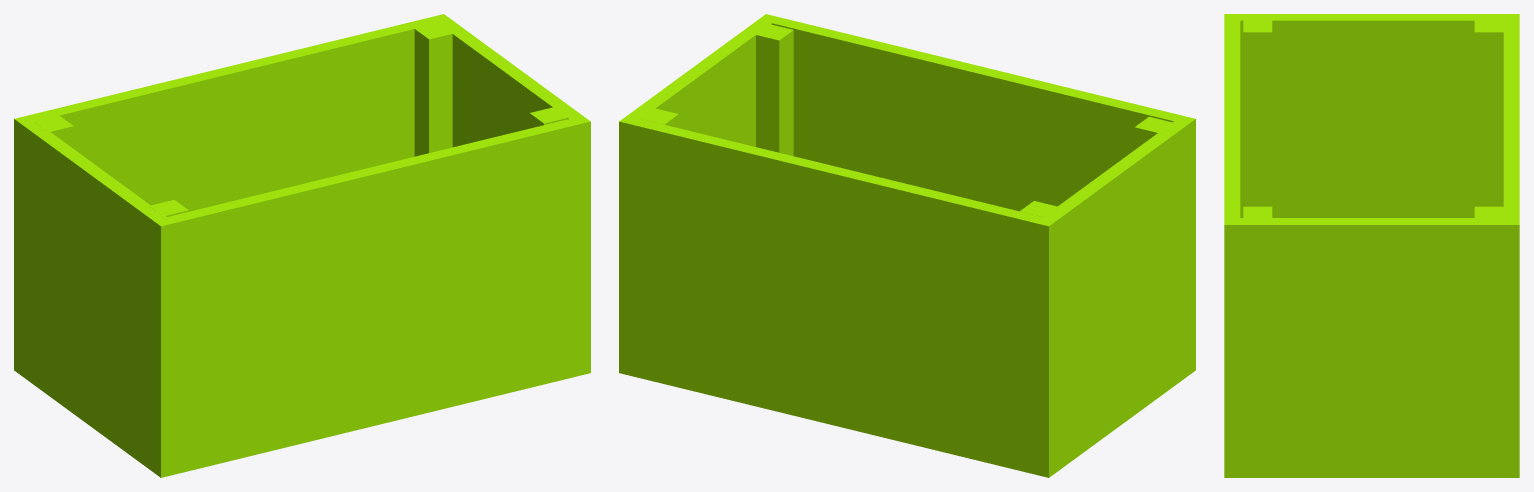
Rendered from Wooden_Crate_COL.FBX.
3 views of the same model, side by side, from view 1: azimuth 30°, elevation 25°; view 2: azimuth 150°, elevation 25°; view 3: azimuth 270°, elevation 25° (orthographic).
Parts seen in each view (by area): view 1: Wooden_Crate_COL; view 2: Wooden_Crate_COL; view 3: Wooden_Crate_COL.
Boxes of the visible parts, left/top/right/bottom form: Wooden_Crate_COL: left=14, top=14, right=590, bottom=477; Wooden_Crate_COL: left=619, top=14, right=1195, bottom=477; Wooden_Crate_COL: left=1224, top=14, right=1519, bottom=477.
Size of the model in its own units: 72.78 by 40.72 by 43.08.
